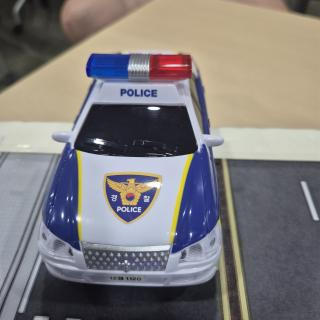Police_car: (38, 54, 223, 286)
